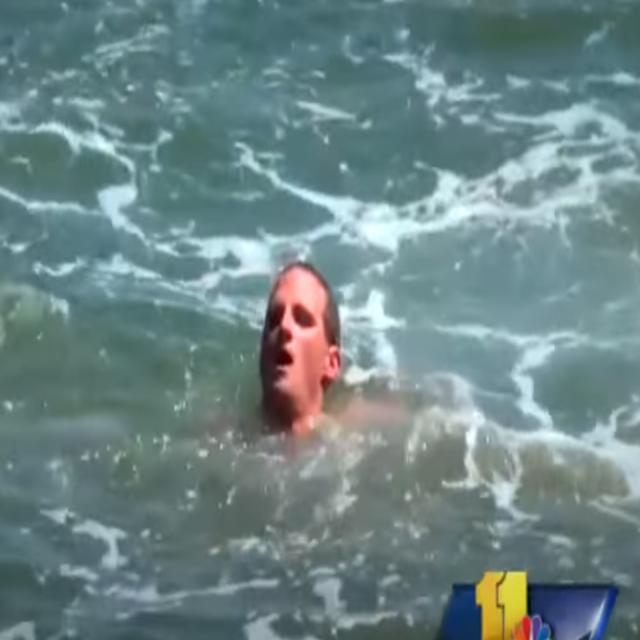Out of Water: (244, 242, 356, 434)
